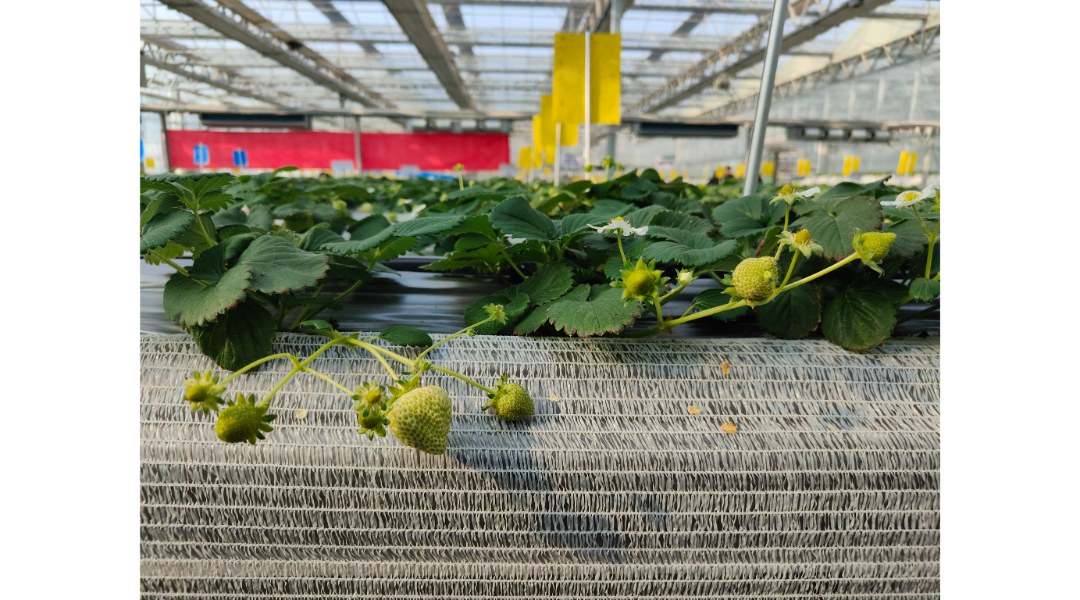berry: (393, 379, 454, 460), (489, 368, 543, 439), (729, 251, 787, 317), (218, 388, 272, 456), (855, 219, 901, 276), (185, 365, 228, 424)
flower: (588, 213, 653, 249)
strain: (794, 262, 853, 301), (427, 318, 486, 354), (259, 372, 291, 410), (676, 304, 727, 326), (301, 336, 336, 365)
